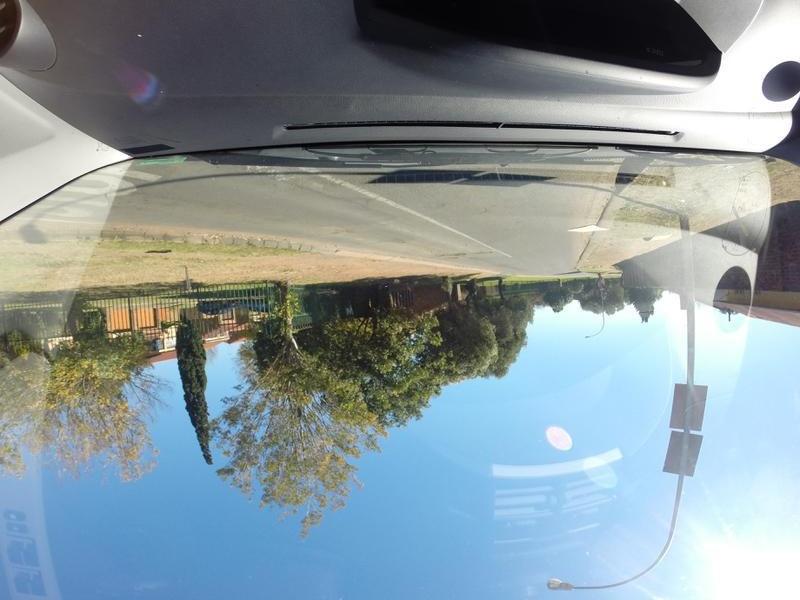pothole: (317, 217, 346, 243), (442, 246, 468, 265)
